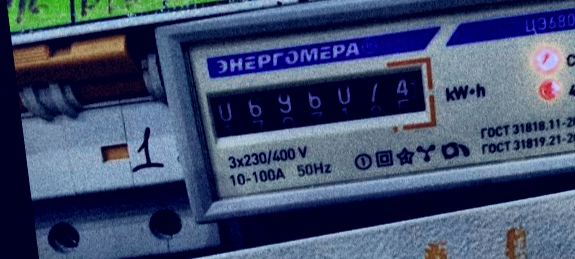0: (212, 95, 234, 121), (333, 78, 352, 105)
4: (390, 71, 409, 95)
5: (394, 96, 412, 113)
6: (304, 82, 324, 110), (244, 91, 263, 117)
7: (362, 75, 382, 102)
9: (273, 87, 292, 115)
screen: (194, 51, 440, 149)
